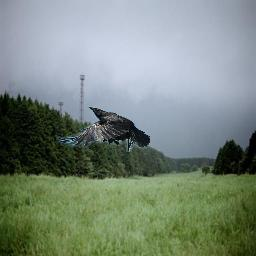Crow: (55, 106, 150, 152)
